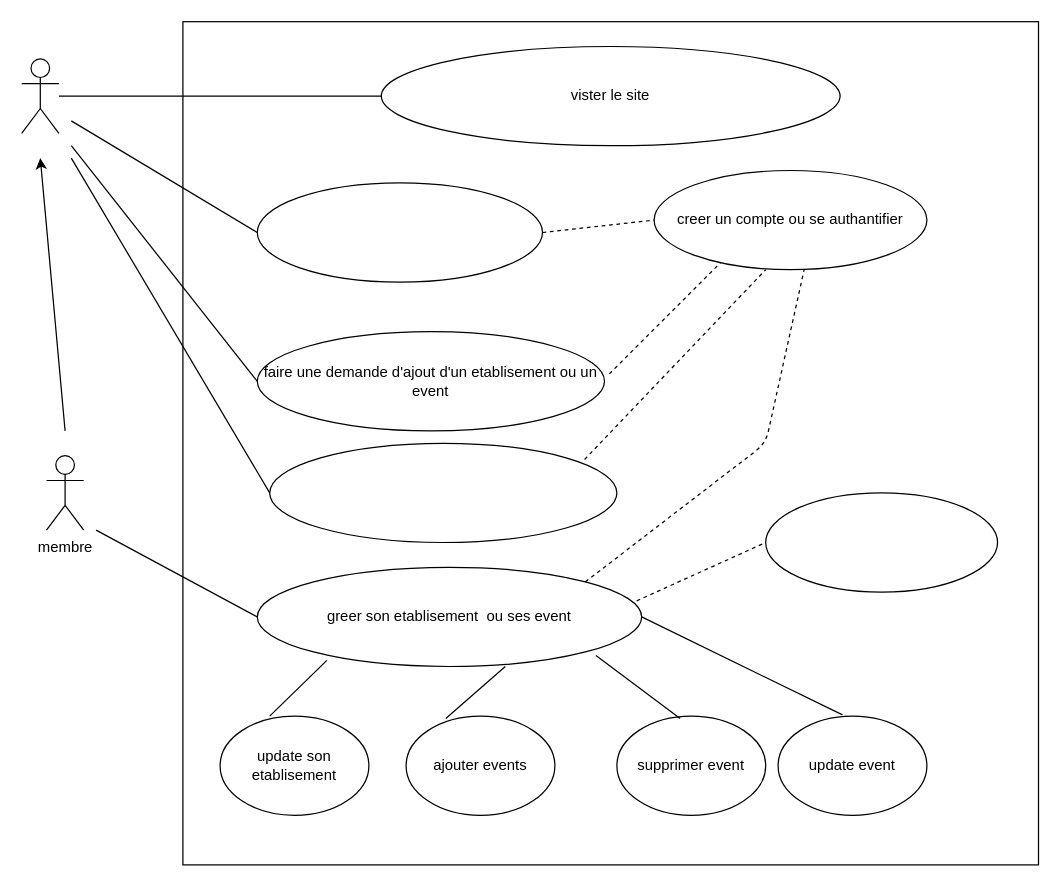
This 1060x887 diagram has some shape labels left out. The centre of each missing label's shape, as x and y in pixels:
"modifer son profile" goes at (442,492).
"noter un etablissement ou un event" goes at (399,232).
"validation de l admis" goes at (881,542).
"vister" goes at (39,95).
